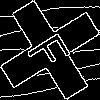F: (25, 25, 80, 76)
